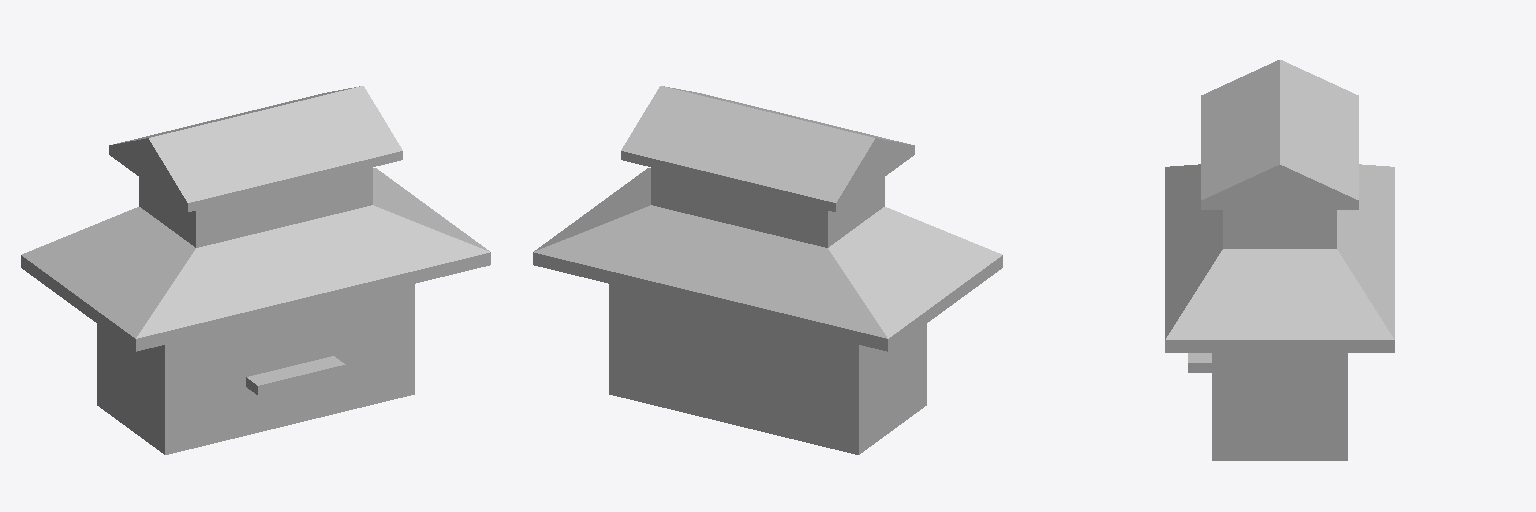
File: SM_Bld_Station_Small_01.obj
The picture shows the model from 3 angles: view 1: azimuth 30°, elevation 25°; view 2: azimuth 150°, elevation 25°; view 3: azimuth 270°, elevation 25°; orthographic projection.
Visible parts, largest first — view 1: SM_Bld_Station_Small_01:Mesh; view 2: SM_Bld_Station_Small_01:Mesh; view 3: SM_Bld_Station_Small_01:Mesh.
Boxes of the visible parts, box(x1,y1,x2,y2) form: SM_Bld_Station_Small_01:Mesh: box(21, 86, 490, 454); SM_Bld_Station_Small_01:Mesh: box(533, 86, 1002, 454); SM_Bld_Station_Small_01:Mesh: box(1165, 60, 1394, 460).
Size of the model in its own units: 9.04 by 7 by 5.06.